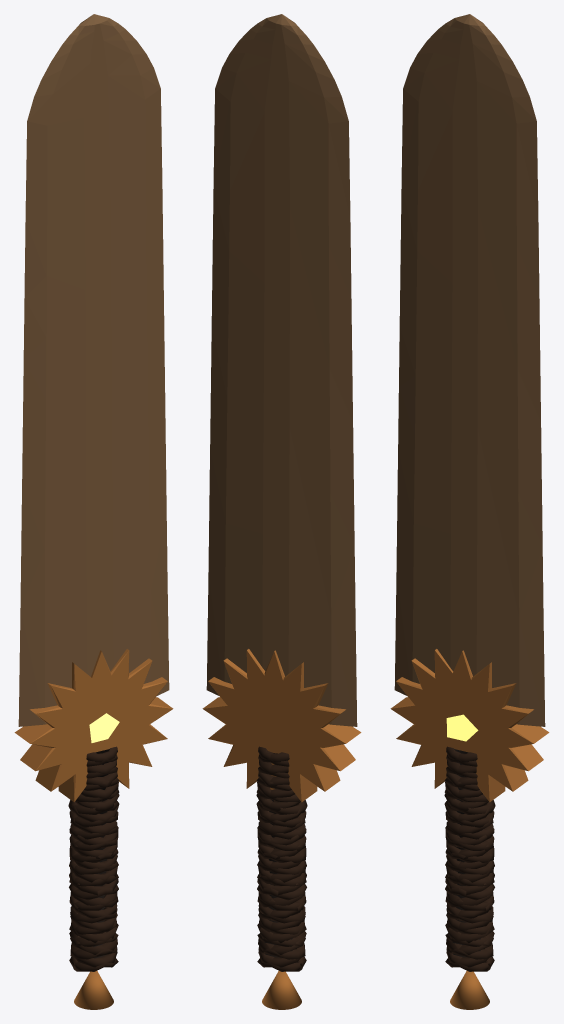
The model's file is tieng-trong-dinh-lang.glb.
3 views of the same model, side by side, from view 1: azimuth 30°, elevation 25°; view 2: azimuth 150°, elevation 25°; view 3: azimuth 330°, elevation 25° (orthographic).
Visible parts, largest first — view 1: blade, guard, wrap, pommel, guard_core; view 2: blade, guard, wrap, pommel; view 3: blade, guard, wrap, pommel, guard_core.
Part boxes in pixels (x1,y1,x2,y2): blade: [18, 14, 169, 726]; guard: [14, 649, 173, 802]; wrap: [68, 746, 119, 971]; pommel: [74, 971, 113, 1009]; guard_core: [89, 713, 119, 742]; blade: [206, 14, 357, 726]; guard: [202, 649, 361, 802]; wrap: [256, 746, 307, 971]; pommel: [262, 971, 301, 1009]; blade: [394, 14, 545, 726]; guard: [390, 649, 549, 802]; wrap: [444, 746, 495, 971]; pommel: [450, 971, 489, 1009]; guard_core: [446, 714, 478, 741].
Bounding box in the file's own units: 0.2608 × 1.64 × 0.078.
